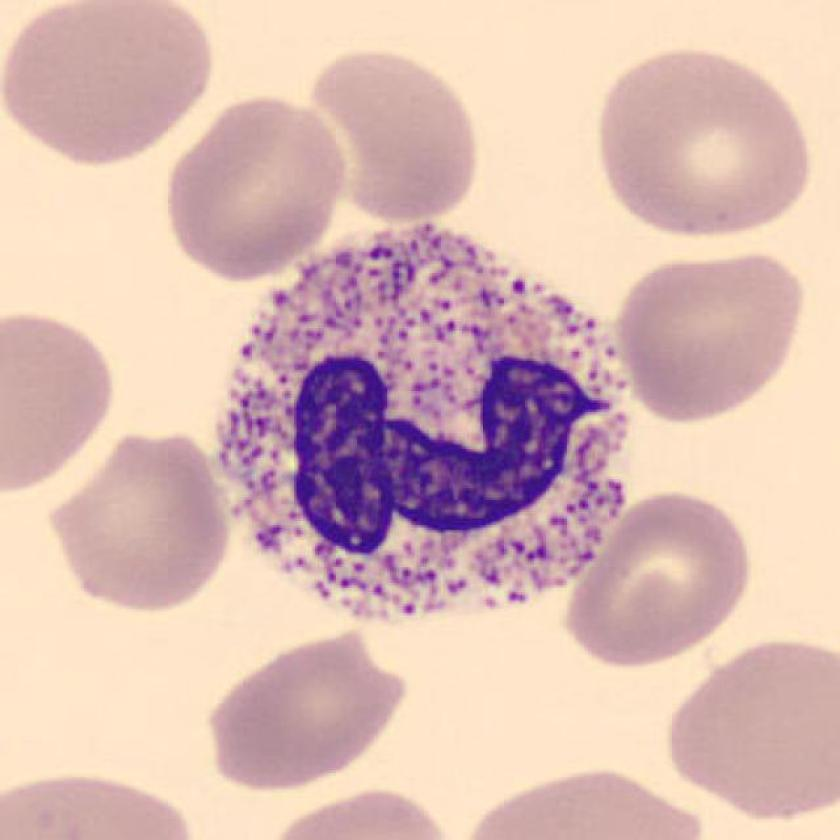neutrophil: (219, 222, 627, 616)
